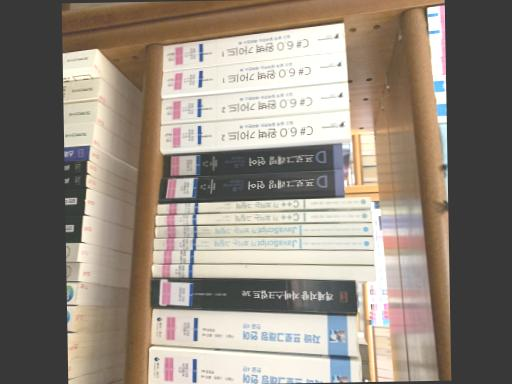book-spine: (151, 309, 357, 358), (161, 23, 345, 72), (161, 51, 347, 99), (160, 111, 350, 153), (147, 347, 361, 384), (160, 84, 349, 125), (150, 279, 357, 313), (161, 145, 343, 179), (158, 170, 344, 202), (156, 197, 370, 215), (155, 210, 371, 227), (152, 265, 375, 281), (155, 223, 372, 238), (152, 251, 374, 265), (153, 237, 373, 251)
